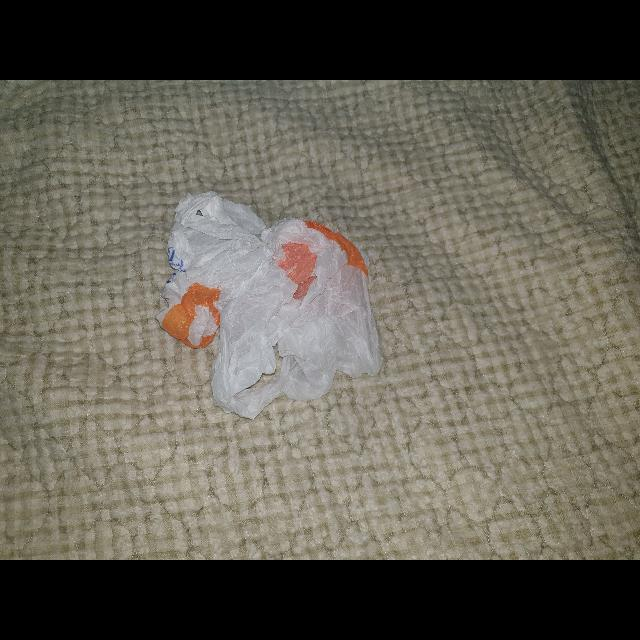plastic_bag: (143, 185, 400, 432)
